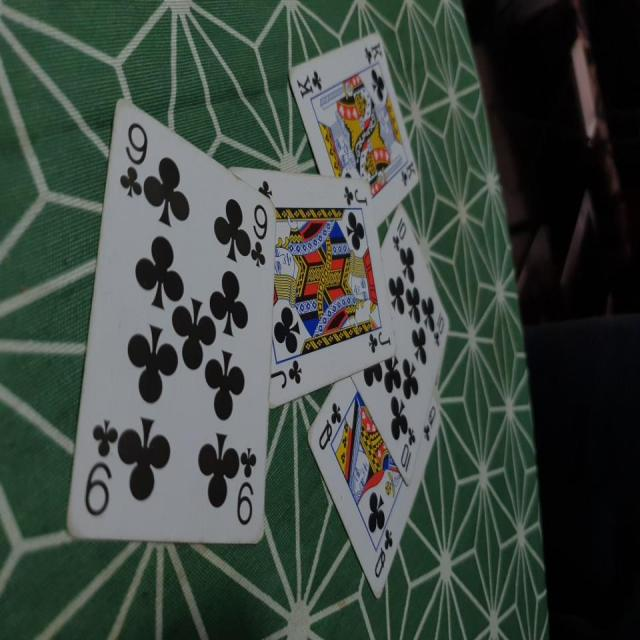10 Trefoils: (349, 204, 448, 484)
9 Trefoils: (65, 92, 277, 546)
J Trefoils: (226, 166, 396, 409)
K Trefoils: (287, 29, 419, 225)
Q Trefoils: (306, 375, 438, 600)
